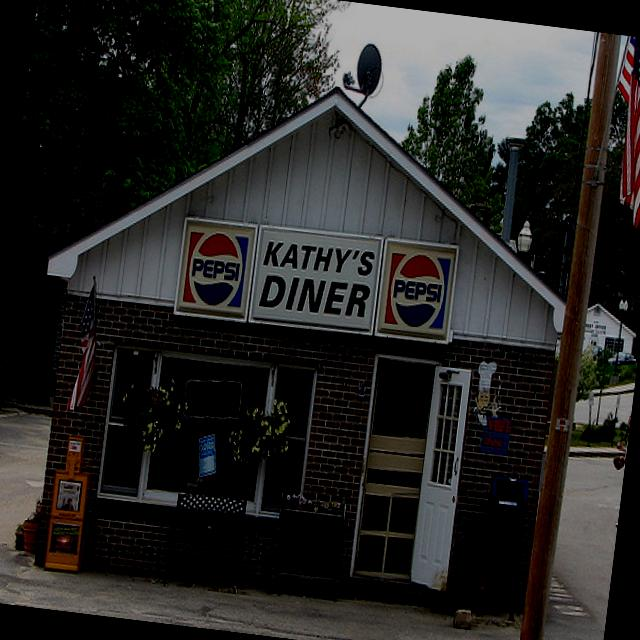Vehicle: (606, 350, 638, 369)
